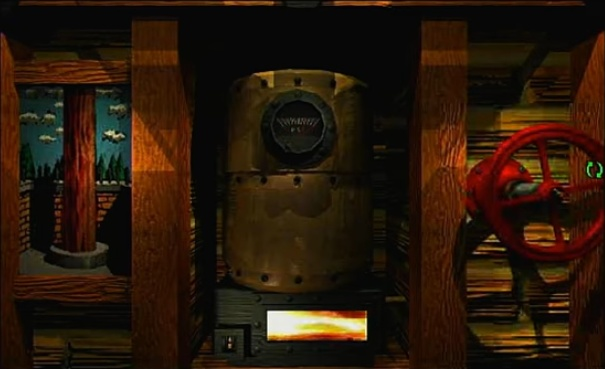Hold: (584, 158, 604, 180)
